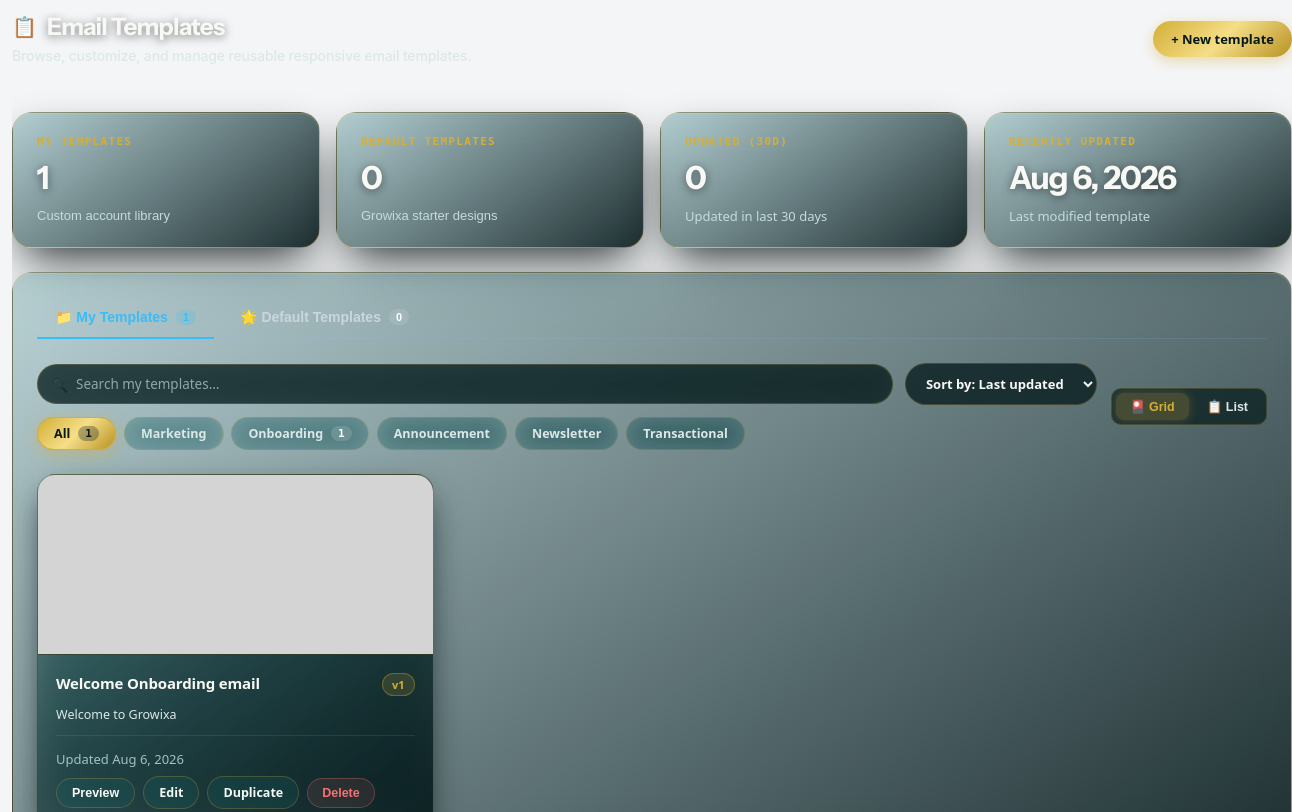
Test: TemplatesPage › deletes a template after confirmation
Check: the heading "Welcome Onboarding email" is shown, box [56,673,260,693]
Click the button "Delete": (341, 793) [307,778,375,808]
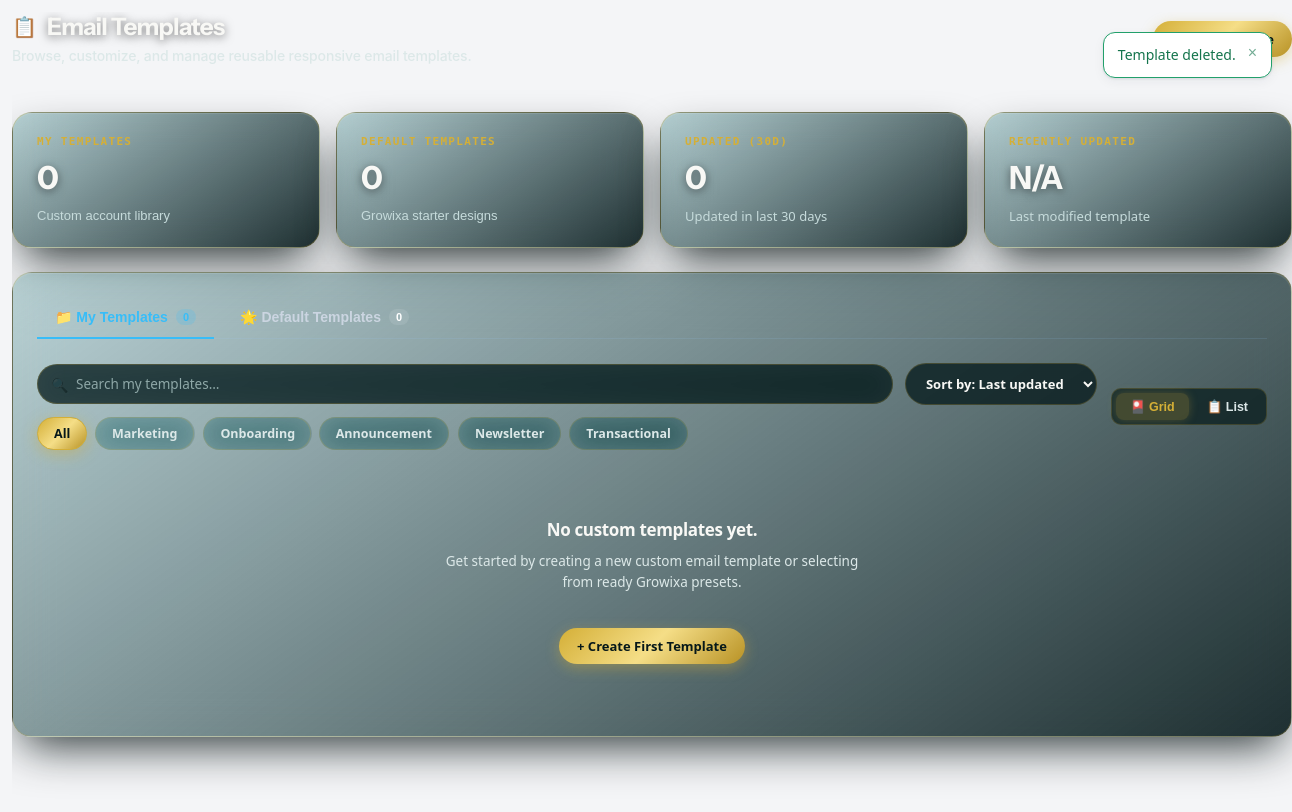
Check: the heading "Welcome Onboarding email" is gone
Check: the text "Template deleted." is shown, box [1118,45,1236,65]
